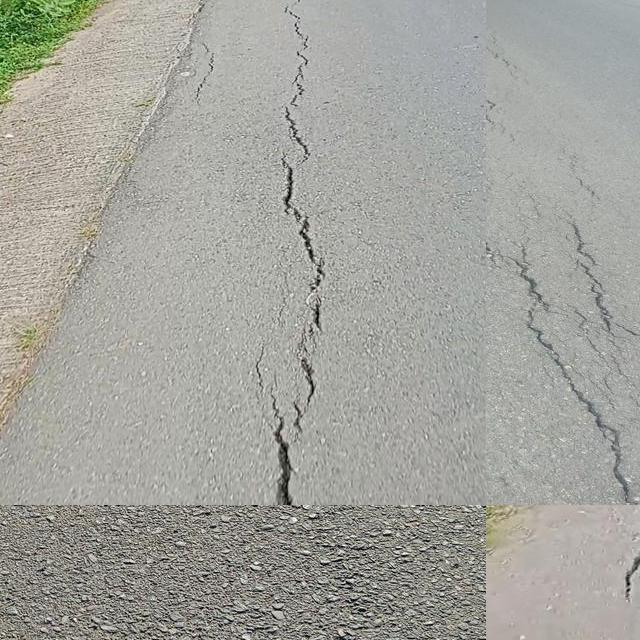Memanjang: (486, 211, 640, 505), (269, 0, 331, 505), (557, 229, 640, 359)
